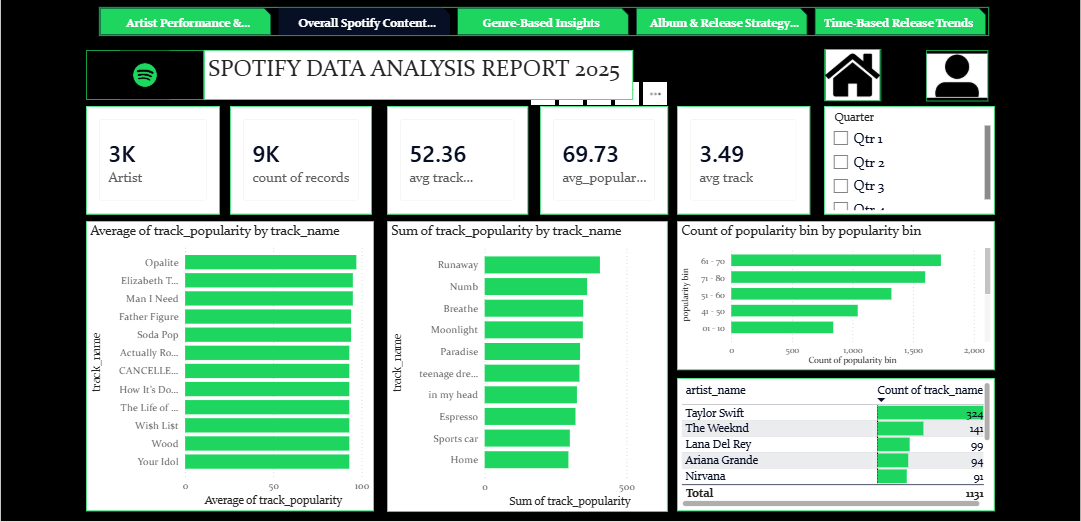

What the dashboard file says about the page in this screenshot:
{"tool":"powerbi","page":{"name":"Overall Spotify Content Performance","canvas":[1280,720],"ordinal":1},"visuals":[{"type":"cardVisual","fields":{"Data":["spotify_data clean.count of records"]},"box":[211.3,146.8,196.2,149.6],"z":0},{"type":"cardVisual","fields":{"Data":["spotify_data clean.avg track polularity"]},"box":[428.1,146.8,194.9,149.6],"z":1000},{"type":"cardVisual","fields":{"Data":["spotify_data clean.avg_popularity"]},"box":[639.5,146.8,177,149.6],"z":2000},{"type":"cardVisual","fields":{"Data":["spotify_data clean.Artist"]},"box":[12.3,146.8,185.2,149.6],"z":3000},{"type":"cardVisual","fields":{"Data":["spotify_data clean.avg track"]},"box":[828.8,146.8,183.9,149.6],"z":4000},{"type":"clusteredBarChart","fields":{"Category":["spotify_data clean.track_name"],"Y":["Avg(spotify_data clean.track_popularity)"]},"box":[12.3,306,397.9,400.7],"z":5000},{"type":"barChart","fields":{"Category":["spotify_data clean.track_name"],"Y":["Sum(spotify_data clean.track_popularity)"]},"box":[428.1,306,388.3,402.1],"z":6000},{"type":"clusteredBarChart","title":"Demographic of Artist Popularity","fields":{"Category":["spotify_data clean.popularity bin"],"Y":["CountNonNull(spotify_data clean.popularity bin)"]},"box":[828.6,305.5,439.1,217.5],"z":7000},{"type":"tableEx","fields":{"Values":["spotify_data clean.artist_name","spotify_data clean.track_name"]},"box":[828.8,522.8,439.1,183.9],"z":8000},{"type":"slicer","fields":{"Values":["spotify_data clean.album_release_date.Variation.Date Hierarchy.Quarter"]},"box":[1031.9,146.8,236,149.6],"z":9000},{"type":"textbox","box":[175.6,68.6,592.8,68.6],"z":10000},{"type":"image","box":[12.3,68.6,163.3,68.6],"z":11000},{"type":"pageNavigator","box":[30.2,10.1,1230,40.2],"z":12000},{"type":"image","box":[1032.3,68.2,79.3,72.3],"z":13000},{"type":"image","box":[1173.2,68.6,86.4,71.4],"z":14000}]}

Visuals, with their boxes in screenshot pixels (x1, y1, x2, y2):
cardVisual - spotify_data clean.count of records: <bbox>232, 105, 372, 211</bbox>
cardVisual - spotify_data clean.avg track polularity: <bbox>387, 105, 526, 211</bbox>
cardVisual - spotify_data clean.avg_popularity: <bbox>538, 105, 664, 211</bbox>
cardVisual - spotify_data clean.Artist: <bbox>90, 105, 223, 211</bbox>
cardVisual - spotify_data clean.avg track: <bbox>673, 105, 804, 211</bbox>
clusteredBarChart - spotify_data clean.track_name x Avg(spotify_data clean.track_popularity): <bbox>90, 218, 374, 504</bbox>
barChart - spotify_data clean.track_name x Sum(spotify_data clean.track_popularity): <bbox>387, 218, 664, 505</bbox>
"Demographic of Artist Popularity" clusteredBarChart: <bbox>673, 218, 986, 373</bbox>
tableEx - spotify_data clean.artist_name x spotify_data clean.track_name: <bbox>673, 373, 986, 504</bbox>
slicer - spotify_data clean.album_release_date.Variation.Date Hierarchy.Quarter: <bbox>818, 105, 986, 211</bbox>
textbox: <bbox>207, 49, 630, 98</bbox>
image: <bbox>90, 49, 207, 98</bbox>
pageNavigator: <bbox>103, 7, 981, 36</bbox>
image: <bbox>818, 49, 875, 100</bbox>
image: <bbox>919, 49, 980, 100</bbox>
